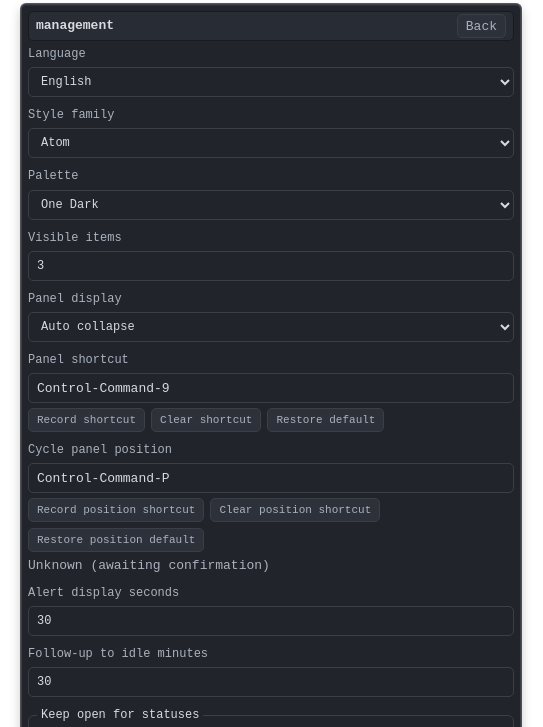
StatusPanelView › records a shortcut settings combination and stops recording
Click the button "Record shortcut": (86, 420) [28,408,145,432]
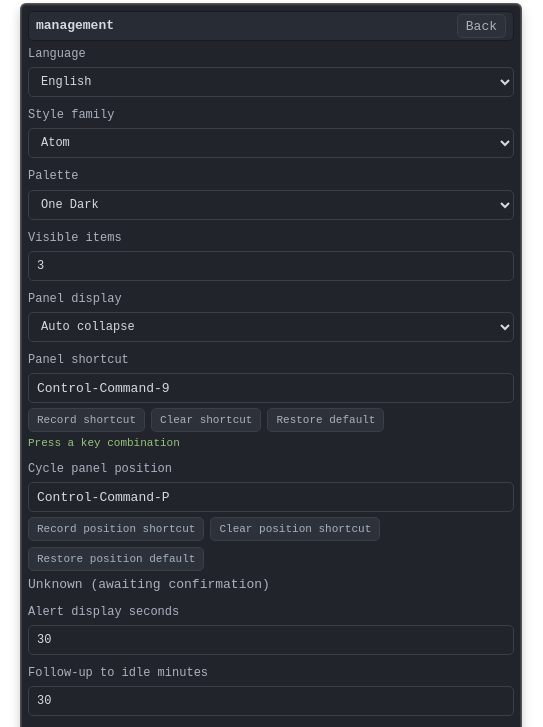
expect the message named "Panel shortcut" reads "Press a key combination": met, box [28,437,180,449]
Press 9
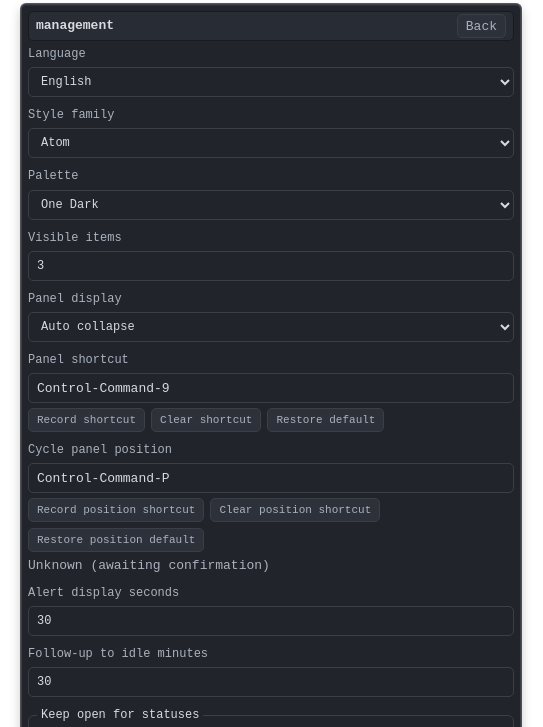
expect the field labelled "Panel shortcut" holds "Control-Command-9": met, box [28,373,514,403]
expect the text "Press a key combination" is gone: met
